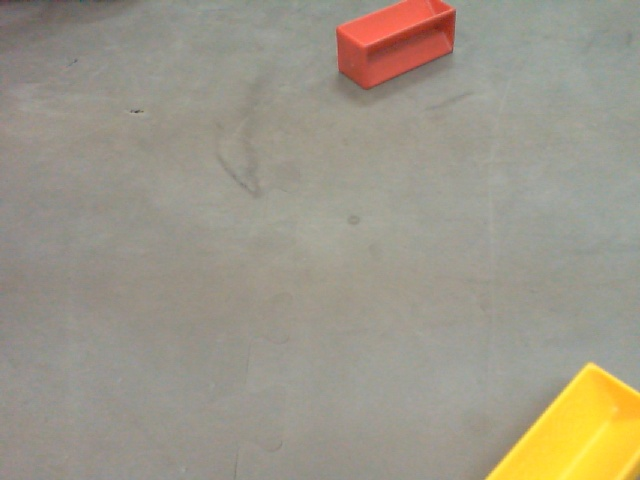RedSample: (338, 1, 456, 92)
YellowSample: (484, 367, 640, 480)
